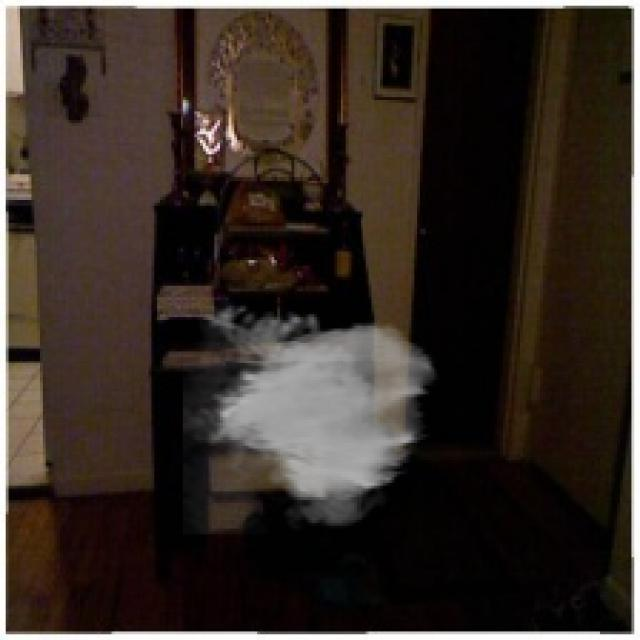Smoke: (183, 297, 440, 534)
